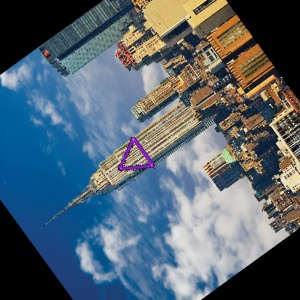triangle: (114, 133, 157, 172)
